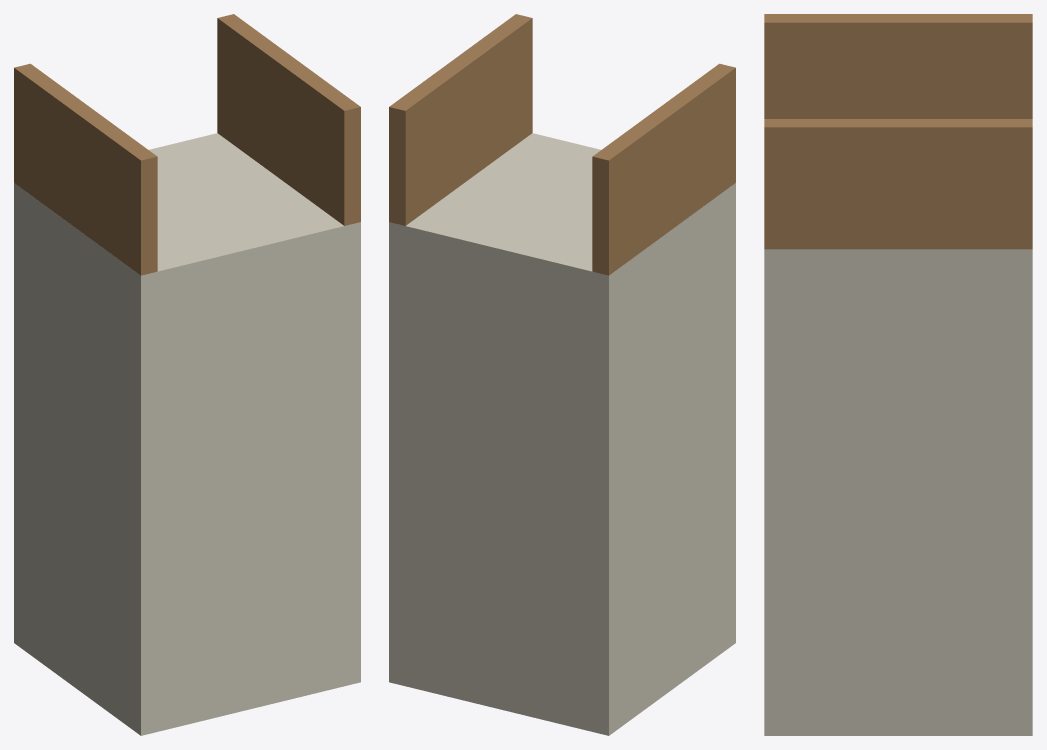
The model's file is stair-landing-railed.glb.
3 renders of one model, left to right at view 1: azimuth 30°, elevation 25°; view 2: azimuth 150°, elevation 25°; view 3: azimuth 270°, elevation 25°, orthographic. The views are drawn at different scales.
Visible parts, largest first — view 1: stair-landing-railed; view 2: stair-landing-railed; view 3: stair-landing-railed.
Boxes of the visible parts, bbox=[...] form: stair-landing-railed: bbox=[14, 14, 360, 735]; stair-landing-railed: bbox=[389, 14, 735, 735]; stair-landing-railed: bbox=[764, 14, 1032, 735].
Size of the model in its own units: 2 by 5 by 2.
